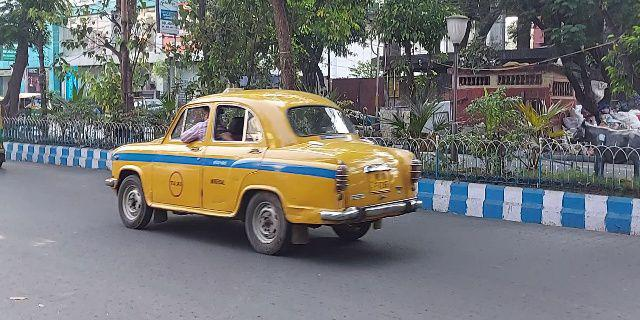Car: (103, 84, 420, 255)
